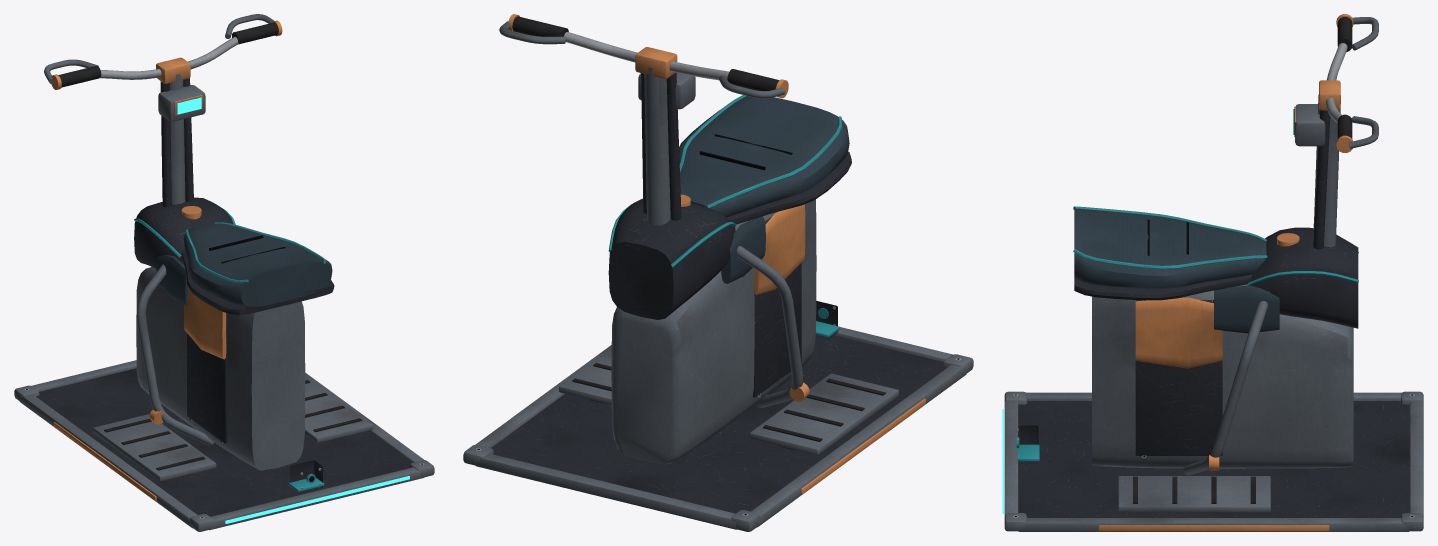
The model's file is drivers_saddle_4.glb.
3 views of the same model, side by side, from view 1: azimuth 30°, elevation 25°; view 2: azimuth 150°, elevation 25°; view 3: azimuth 270°, elevation 25° (orthographic). The views are drawn at different scales.
Parts seen in each view (by area): view 1: Base, Cushion, SaddlePan, RunningLight; view 2: Base, Cushion, SaddlePan; view 3: Base, Cushion, SaddlePan.
Boxes of the visible parts, x1=… form: Base: x1=14, y1=14, x2=434, y2=531; Cushion: x1=184, y1=222, x2=332, y2=306; SaddlePan: x1=182, y1=249, x2=334, y2=314; RunningLight: x1=225, y1=476, x2=409, y2=523; Base: x1=463, y1=14, x2=973, y2=531; Cushion: x1=679, y1=95, x2=849, y2=217; SaddlePan: x1=727, y1=151, x2=851, y2=224; Base: x1=1004, y1=14, x2=1423, y2=531; Cushion: x1=1073, y1=206, x2=1267, y2=289; SaddlePan: x1=1074, y1=274, x2=1251, y2=300.
Size of the model in its own units: 0.718 by 0.9895 by 0.965.
11 materials, 7 textured.
